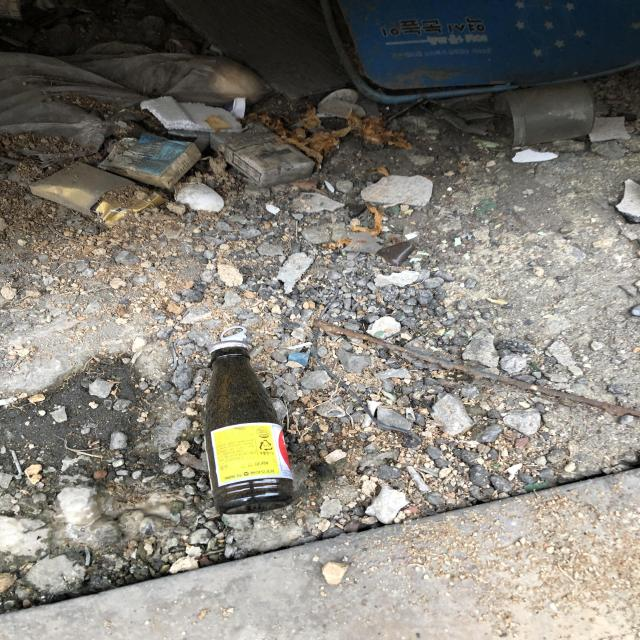chai: (203, 326, 293, 514)
